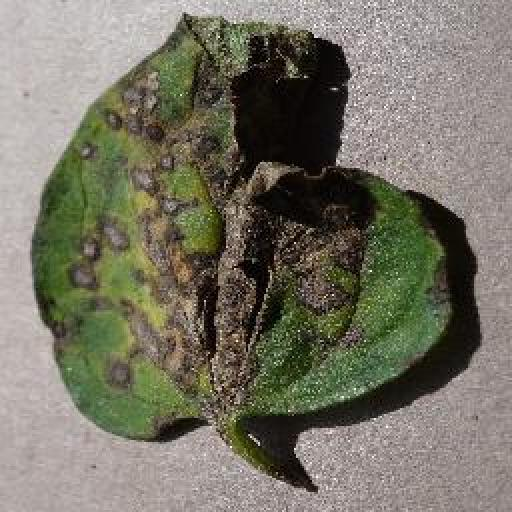Early Blight: (34, 13, 453, 447)
